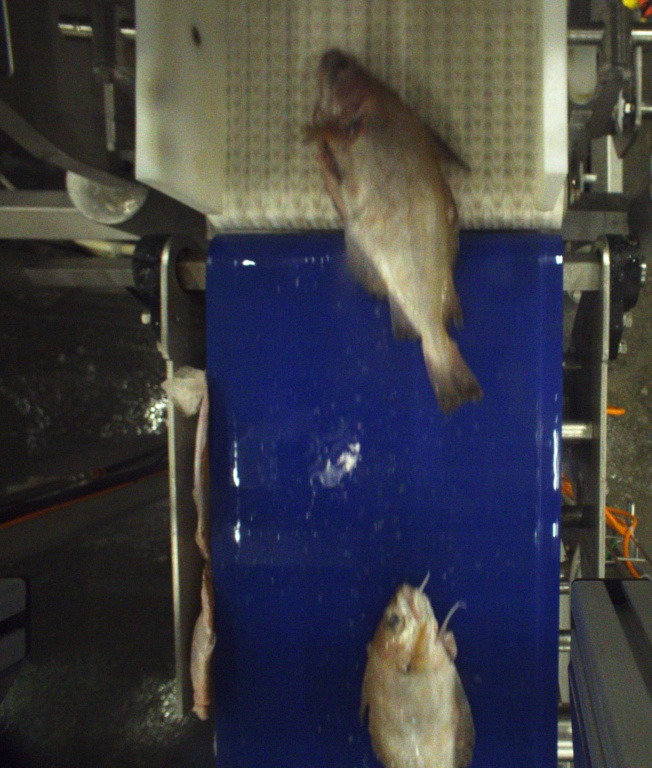BIB: (359, 576, 475, 767)
